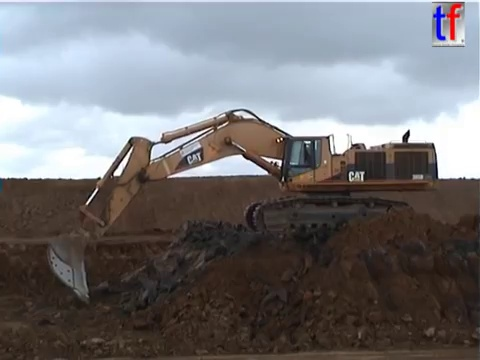excavator: (44, 105, 441, 306)
